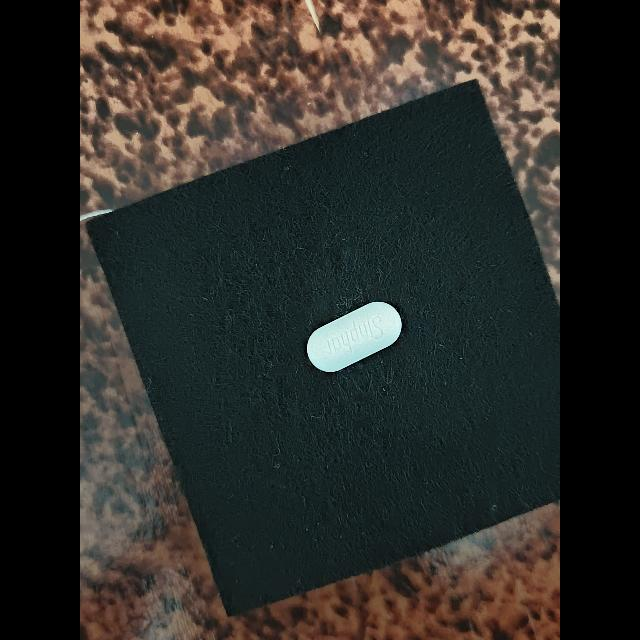Intact Pill: (307, 301, 402, 373)
